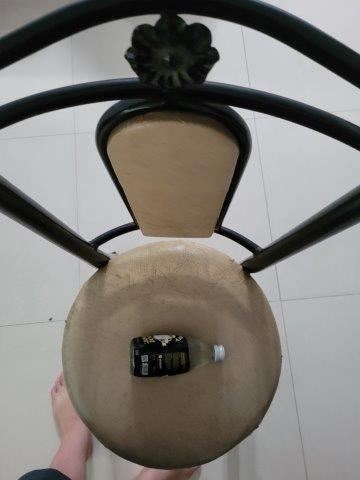botolkaca: (129, 334, 227, 378)
